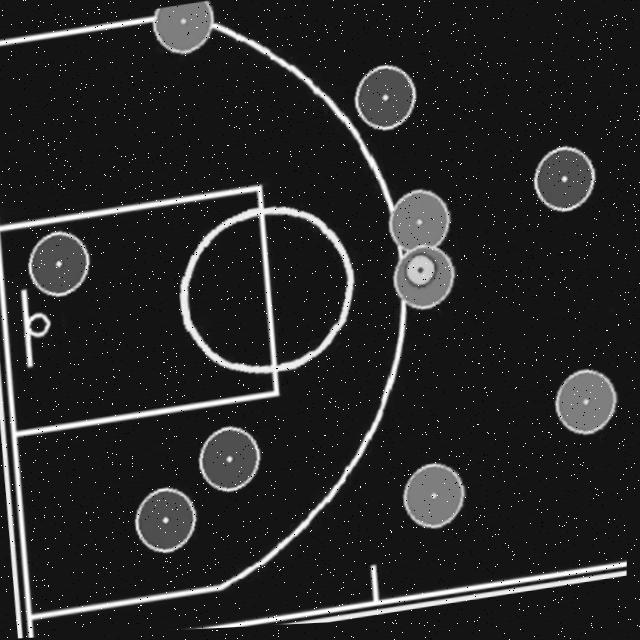Basketball: (404, 255, 437, 289)
Team_A: (29, 231, 91, 296), (201, 428, 262, 493), (355, 68, 416, 133), (534, 152, 595, 217), (138, 489, 198, 553)
Team_B: (396, 244, 461, 313), (390, 190, 453, 260), (557, 375, 619, 440), (406, 467, 467, 532), (153, 2, 214, 54)
